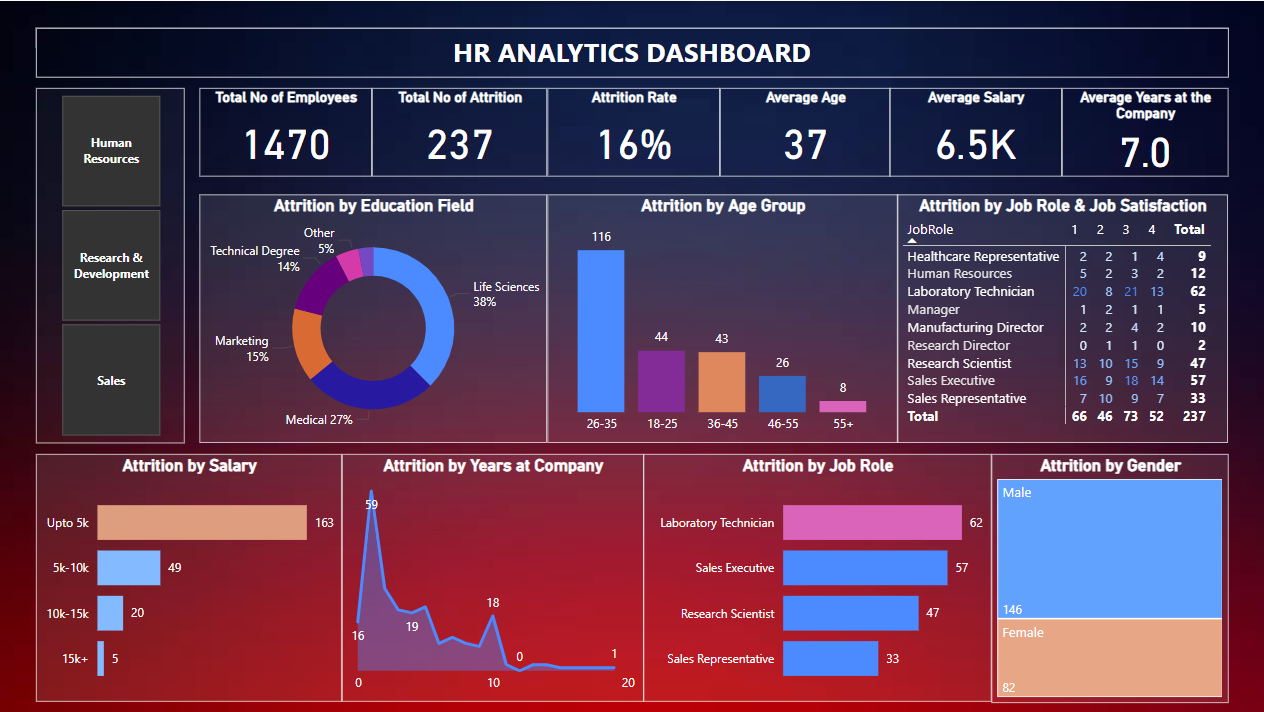

What the dashboard file says about the page in this screenshot:
{"tool":"powerbi","page":{"name":"HR Analytics Dashboard","canvas":[1280,720],"ordinal":0},"visuals":[{"type":"card","title":"Total No of Employees","fields":{"Values":["Count(HR_Analytics.EmpID)"]},"box":[204.6,88.2,173.8,89.2],"z":0},{"type":"card","title":"Total No of Attrition ","fields":{"Values":["Sum(HR_Analytics.AttritionCount)"]},"box":[378.5,88.2,176.9,89.2],"z":1000},{"type":"card","title":"Attrition Rate ","fields":{"Values":["HR_Analytics.AttritionRate"]},"box":[555.4,88.2,173.8,89.2],"z":2000},{"type":"card","title":"Average Age","fields":{"Values":["Avg(HR_Analytics.Age)"]},"box":[729.2,88.2,172.3,89.2],"z":3000},{"type":"card","title":"Average Salary","fields":{"Values":["Avg(HR_Analytics.MonthlyIncome)"]},"box":[901.5,88.2,173.8,89.2],"z":4000},{"type":"card","title":"Average Years at the Company","fields":{"Values":["Avg(HR_Analytics.YearsAtCompany)"]},"box":[1075.4,88.2,167.7,89.2],"z":5000},{"type":"donutChart","title":"Attrition by Education Field","fields":{"Y":["Sum(HR_Analytics.AttritionCount)"],"Category":["HR_Analytics.EducationField"]},"box":[204.6,195.4,350.8,250.8],"z":6000},{"type":"columnChart","title":"Attrition by Age Group","fields":{"Category":["HR_Analytics.AgeGroup"],"Y":["Sum(HR_Analytics.AttritionCount)"]},"box":[555.4,195.4,353.8,250.8],"z":7000},{"type":"pivotTable","title":"Attrition by Job Role & Job Satisfaction","fields":{"Rows":["HR_Analytics.JobRole"],"Columns":["HR_Analytics.JobSatisfaction"],"Values":["Sum(HR_Analytics.AttritionCount)"]},"box":[909.2,195.4,333.8,250.8],"z":8000},{"type":"barChart","title":"Attrition by Salary","fields":{"Category":["HR_Analytics.SalarySlab"],"Y":["Sum(HR_Analytics.AttritionCount)"]},"box":[39.4,457.3,308.9,249.8],"z":9000},{"type":"barChart","title":"Attrition by Job Role","fields":{"Category":["HR_Analytics.JobRole"],"Y":["Sum(HR_Analytics.AttritionCount)"]},"box":[652.6,457.3,351.3,249.8],"z":10000},{"type":"areaChart","title":"Attrition by Years at Company","fields":{"Category":["HR_Analytics.YearsAtCompany"],"Y":["Sum(HR_Analytics.AttritionCount)"]},"box":[348.3,457.3,304.4,249.8],"z":11000},{"type":"treemap","title":"Attrition by Gender","fields":{"Group":["HR_Analytics.Gender"],"Values":["Sum(HR_Analytics.AttritionCount)"]},"box":[1003.9,457.3,239.2,251.4],"z":12000},{"type":"slicer","fields":{"Values":["HR_Analytics.Department"]},"box":[39.4,87.8,149.9,358.9],"z":13000},{"type":"textbox","box":[39.4,27.3,1203.8,50],"z":13001}]}

Visuals, with their boxes in screenshot pixels (x1, y1, x2, y2), scaled from the page's 1280x720 canvas onto the 1264x712 screenshot:
"Total No of Employees" card: box(202, 87, 374, 175)
"Total No of Attrition " card: box(374, 87, 548, 175)
"Attrition Rate " card: box(548, 87, 720, 175)
"Average Age" card: box(720, 87, 890, 175)
"Average Salary" card: box(890, 87, 1062, 175)
"Average Years at the Company" card: box(1062, 87, 1228, 175)
"Attrition by Education Field" donutChart: box(202, 193, 548, 441)
"Attrition by Age Group" columnChart: box(548, 193, 898, 441)
"Attrition by Job Role & Job Satisfaction" pivotTable: box(898, 193, 1227, 441)
"Attrition by Salary" barChart: box(39, 452, 344, 699)
"Attrition by Job Role" barChart: box(644, 452, 991, 699)
"Attrition by Years at Company" areaChart: box(344, 452, 645, 699)
"Attrition by Gender" treemap: box(991, 452, 1228, 701)
slicer - HR_Analytics.Department: box(39, 87, 187, 442)
textbox: box(39, 27, 1228, 76)
